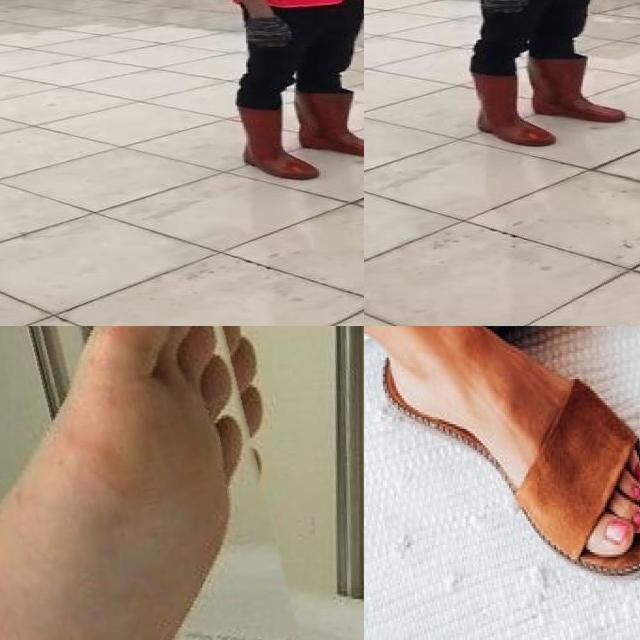Barefoots: (0, 326, 275, 640)
Sandals: (364, 326, 640, 576)
boots: (456, 68, 560, 149), (223, 100, 322, 182), (531, 52, 629, 122), (295, 89, 364, 157)
hand_glove: (239, 14, 296, 48), (474, 0, 531, 17)
person: (414, 0, 640, 155), (203, 0, 364, 182)
